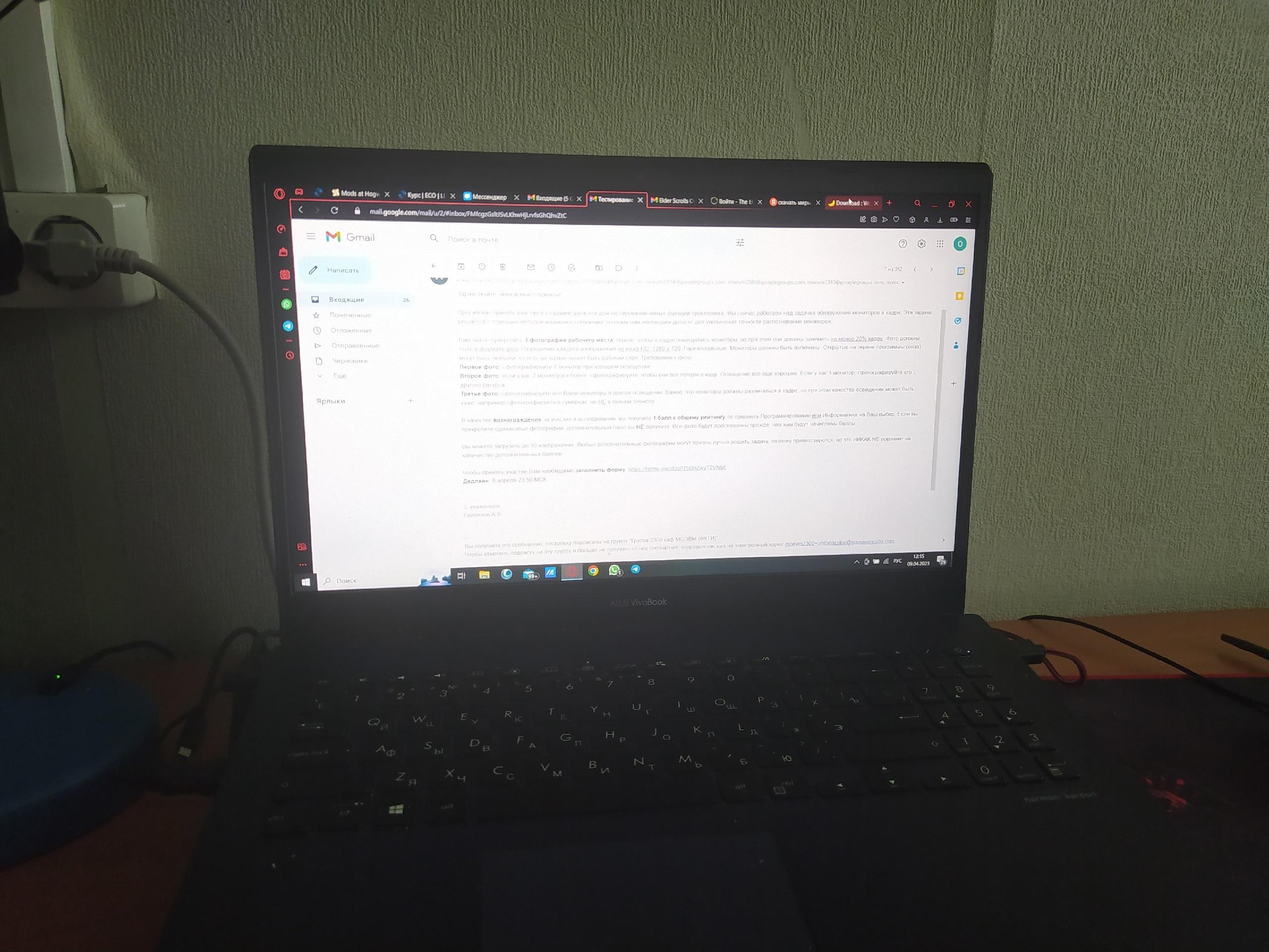monitor: (245, 142, 1000, 671)
